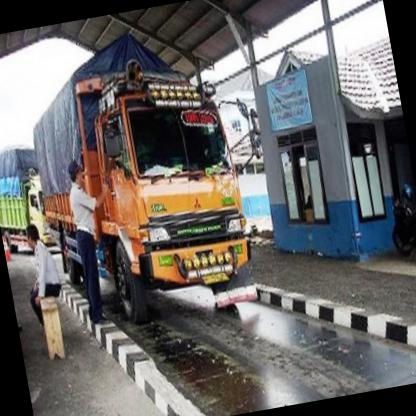truck: (88, 67, 261, 325)
